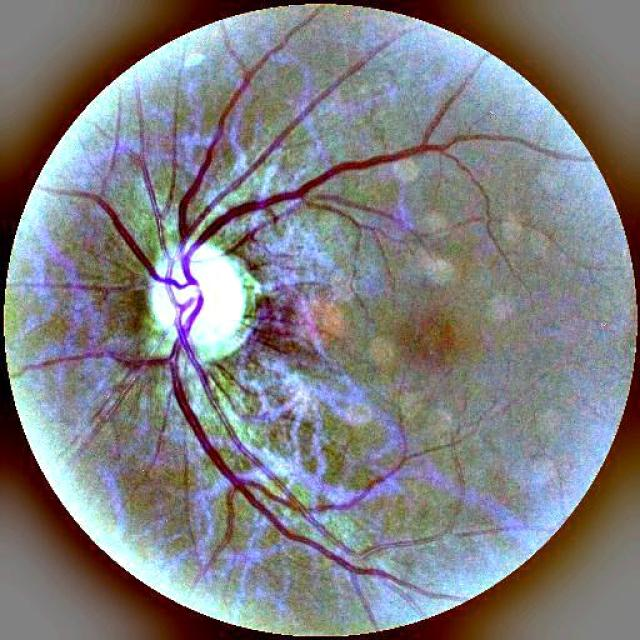Macula: (396, 301, 472, 382)
Nerves: (163, 62, 494, 588)
Optic Disk: (108, 214, 285, 387)
